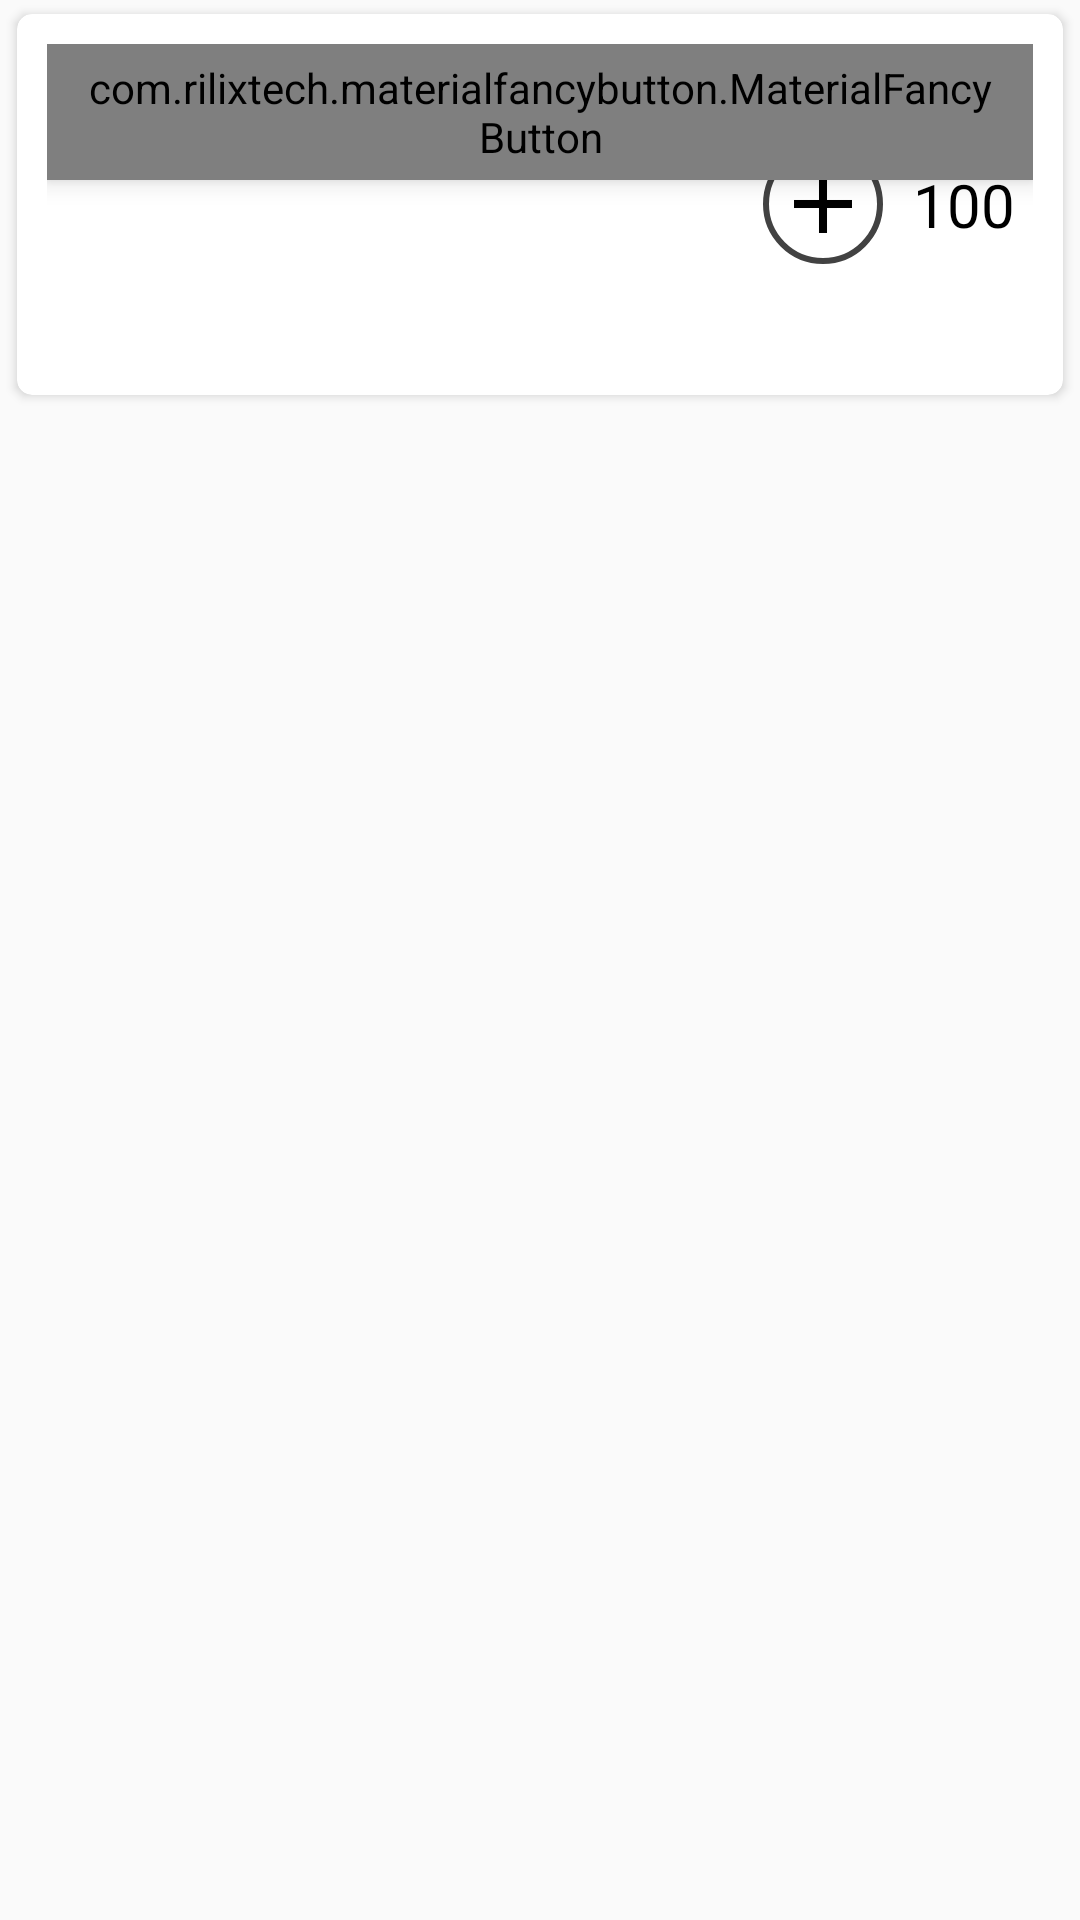

Point at icon controls on the screen. Image size 1080px x 1920px, points as (x,y).
add: (823,204)
